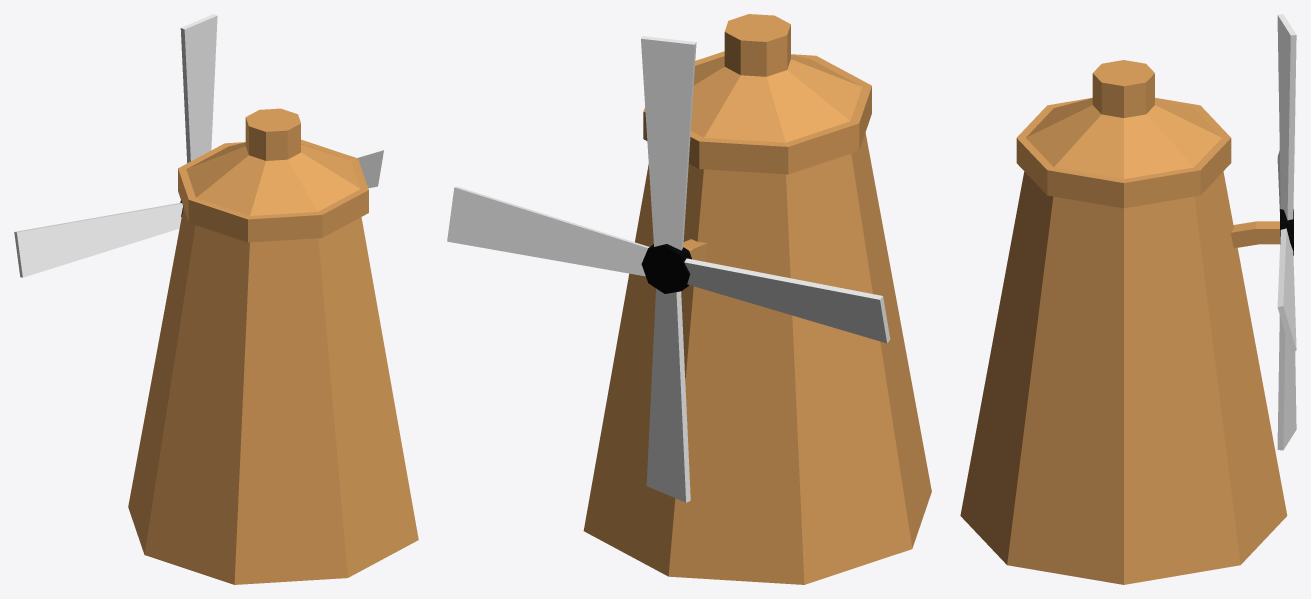
The model's file is Melnitsa.fbx.
The picture shows the model from 3 angles, left to right: view 1: azimuth 30°, elevation 25°; view 2: azimuth 150°, elevation 25°; view 3: azimuth 270°, elevation 25°; orthographic projection. The views are drawn at different scales.
Parts seen in each view (by area): view 1: Cube, Куб.002; view 2: Cube, Куб.002; view 3: Cube, Куб.002.
Part boxes in pixels (x1,y1,x2,y2): Cube: [128, 108, 418, 584]; Куб.002: [14, 14, 383, 277]; Cube: [583, 14, 931, 584]; Куб.002: [447, 36, 890, 502]; Cube: [960, 60, 1287, 584]; Куб.002: [1277, 14, 1296, 450].
Size of the model in its own units: 235 by 278 by 173.
